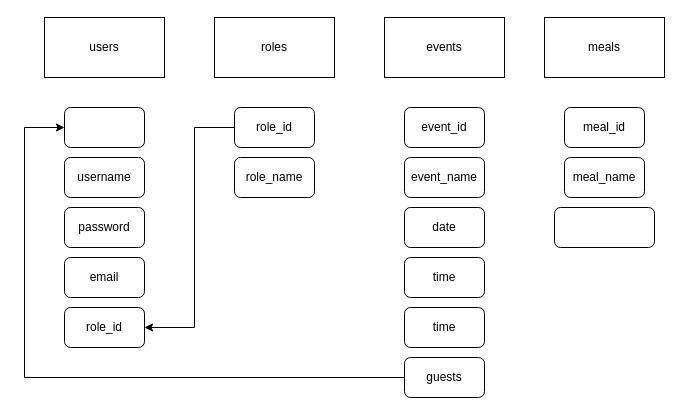
Image size: 682x415. Some labels were removed from this diagram. Each missing label, with the centre of its shape:
"meal_description" belongs at (x=604, y=227).
"user_id" belongs at (x=104, y=127).
